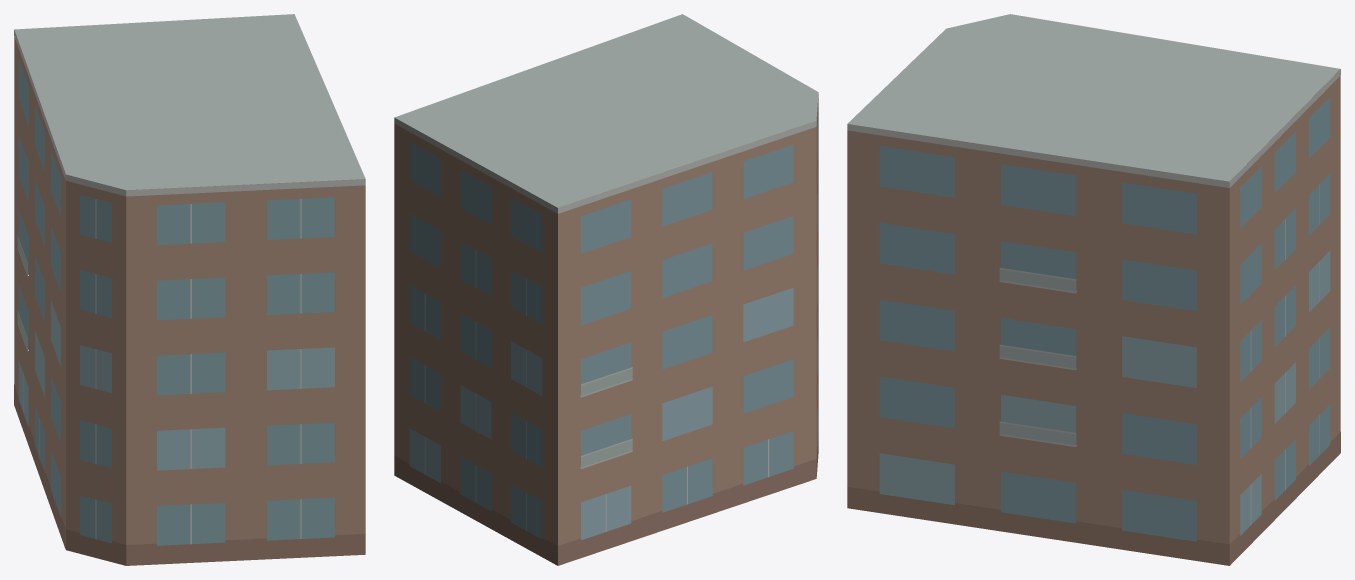
File: survey-upis-32949417.glb
3 views of the same model, side by side, from view 1: azimuth 30°, elevation 25°; view 2: azimuth 150°, elevation 25°; view 3: azimuth 270°, elevation 25° (orthographic). The views are drawn at different scales.
Visible parts, largest first — view 1: survey-upis-32949417.tmp; view 2: survey-upis-32949417.tmp; view 3: survey-upis-32949417.tmp.
Boxes of the visible parts, x1,y1,x2,y2 form: survey-upis-32949417.tmp: (14, 14, 365, 565); survey-upis-32949417.tmp: (394, 14, 818, 565); survey-upis-32949417.tmp: (847, 14, 1340, 565).
Bounding box in the file's own units: 13.62 × 14.55 × 16.94.
